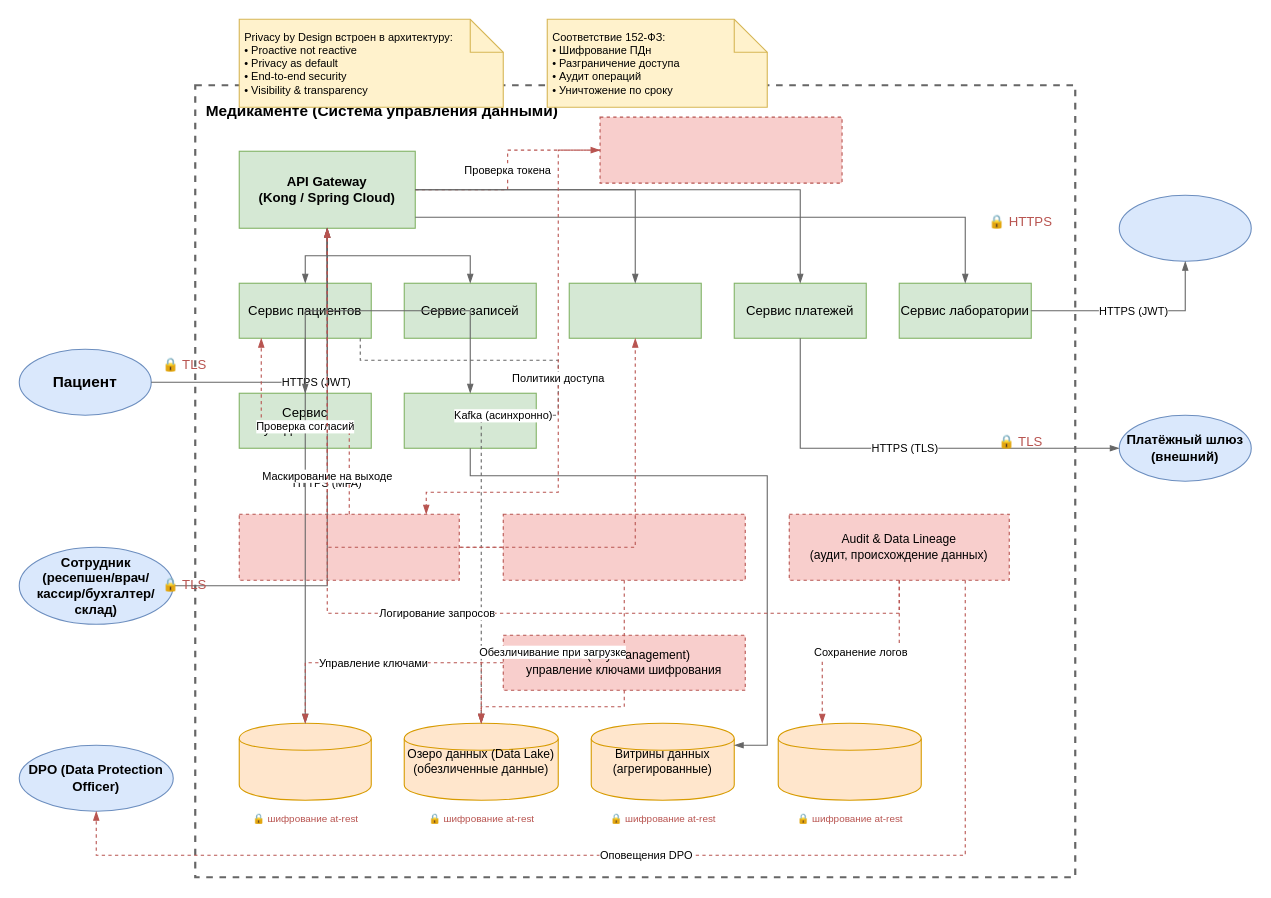
Image size: 1271x898. Some labels were removed from this diagram. Each missing label, with the centre of its shape:
"Consent & Policy Manager (согласия, политики, Retention)" belongs at pixel 348 546.
"Data Masking & Anonymization (маскирование, обезличивание, токенизация)" belongs at pixel 623 546.
"IAM (Identity & Access Management) RBAC / ABAC / MFA" belongs at pixel 720 149.
"Лаборатория (внешняя)" belongs at pixel 1184 227.
"Операционные БД (PostgreSQL)" belongs at pixel 304 761.
"Сервис аналитики" belongs at pixel 469 420.
"Сервис мед. карт" belongs at pixel 634 310.
"Хранилище аудита (WORM)" belongs at pixel 849 761.
